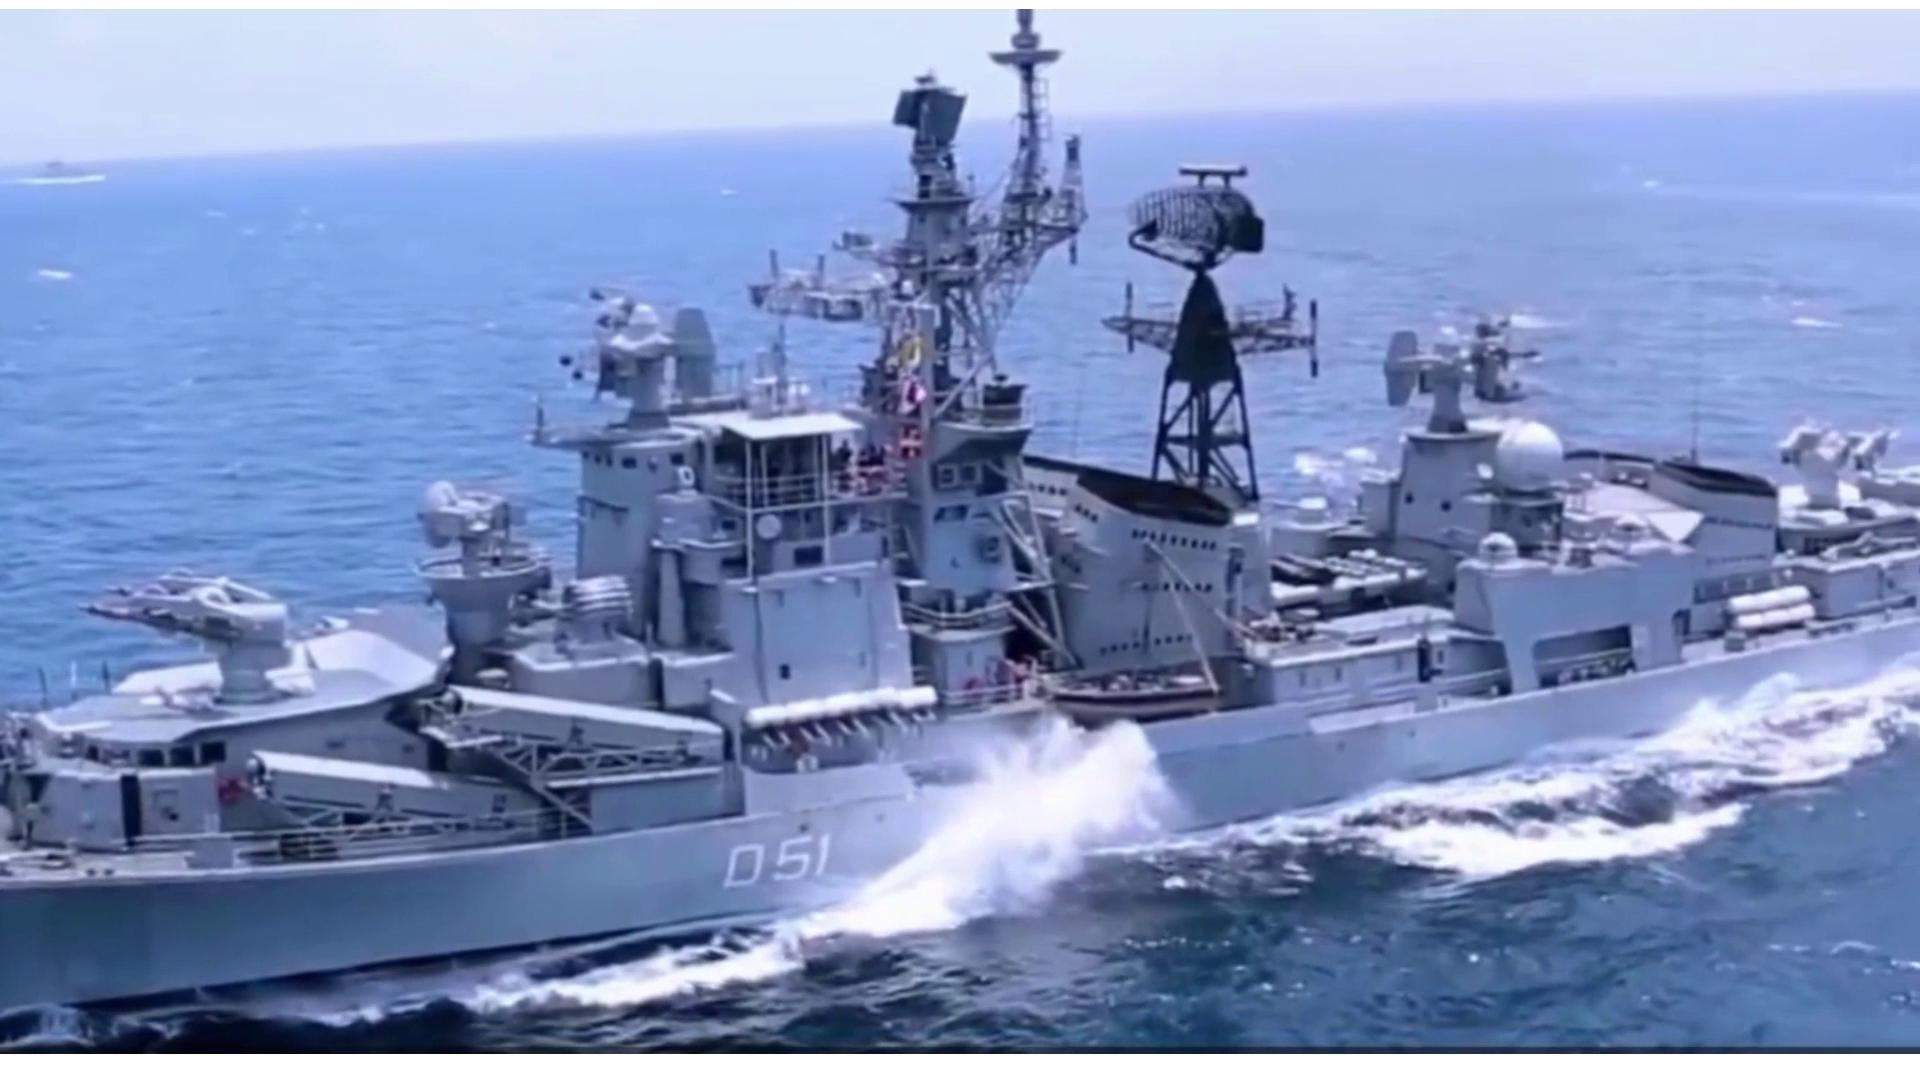OCR: (695, 818, 846, 904)
